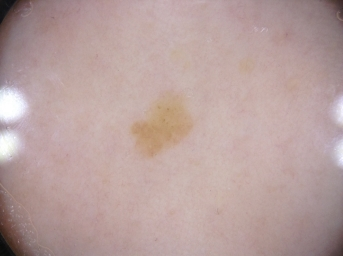seborrheic keratosis: (117, 85, 202, 164)
